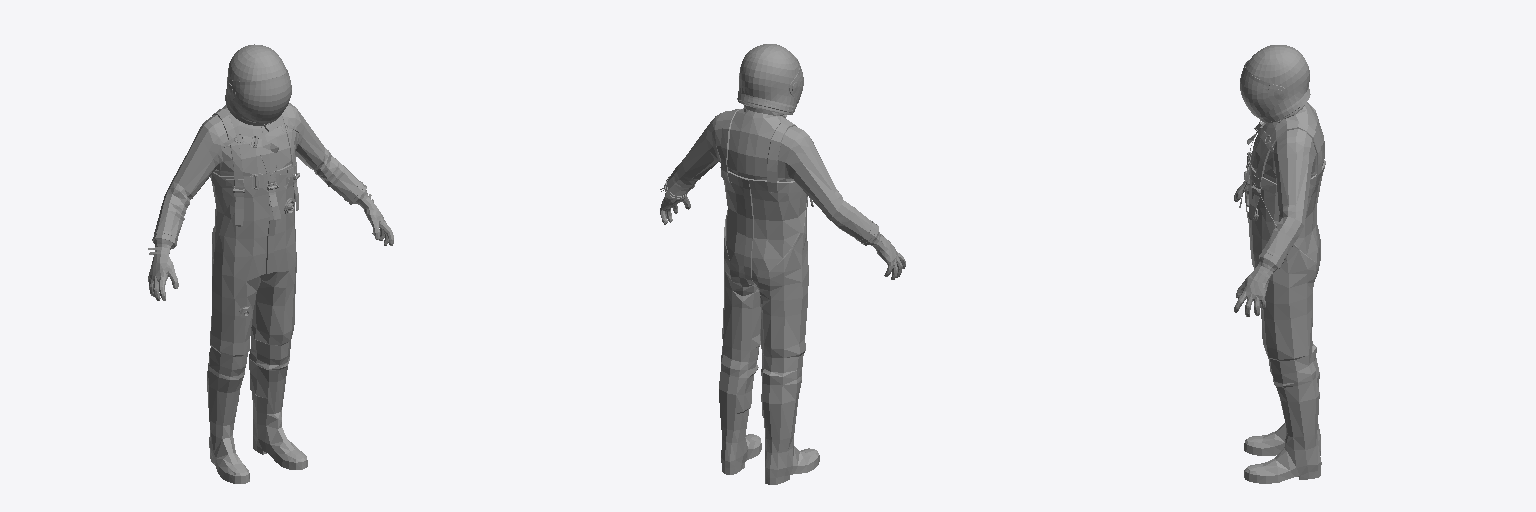
File: Space_suit_male.obj
The picture shows the model from 3 angles: view 1: azimuth 30°, elevation 25°; view 2: azimuth 150°, elevation 25°; view 3: azimuth 270°, elevation 25°; orthographic projection.
Parts seen in each view (by area): view 1: SpaceSuitMaleBody, SpaceSuitHelmet, SpaceSuitVisor; view 2: SpaceSuitMaleBody, SpaceSuitHelmet; view 3: SpaceSuitMaleBody, SpaceSuitHelmet, SpaceSuitVisor.
Boxes of the visible parts, box(x1,y1,x2,y2) form: SpaceSuitMaleBody: box(148, 95, 393, 483); SpaceSuitHelmet: box(225, 44, 288, 123); SpaceSuitVisor: box(233, 75, 291, 120); SpaceSuitMaleBody: box(660, 97, 905, 484); SpaceSuitHelmet: box(738, 44, 800, 110); SpaceSuitMaleBody: box(1234, 92, 1325, 483); SpaceSuitHelmet: box(1244, 45, 1309, 120); SpaceSuitVisor: box(1240, 65, 1272, 113).
Size of the model in its own units: 2.2 by 3.71 by 0.7358.